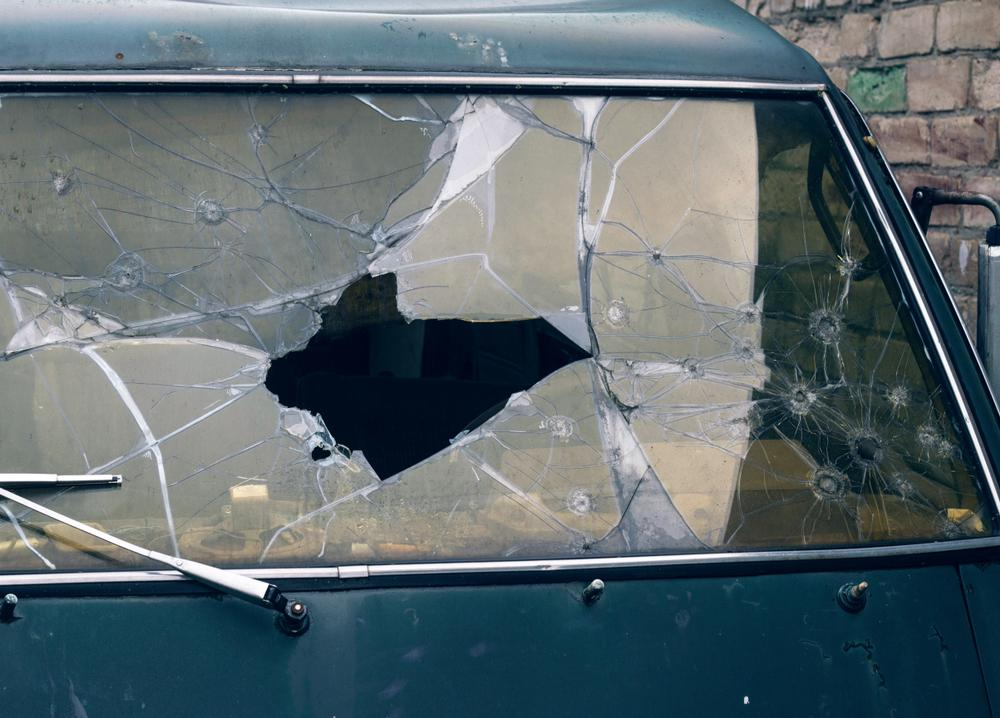glass shatter: (0, 92, 1000, 574)
